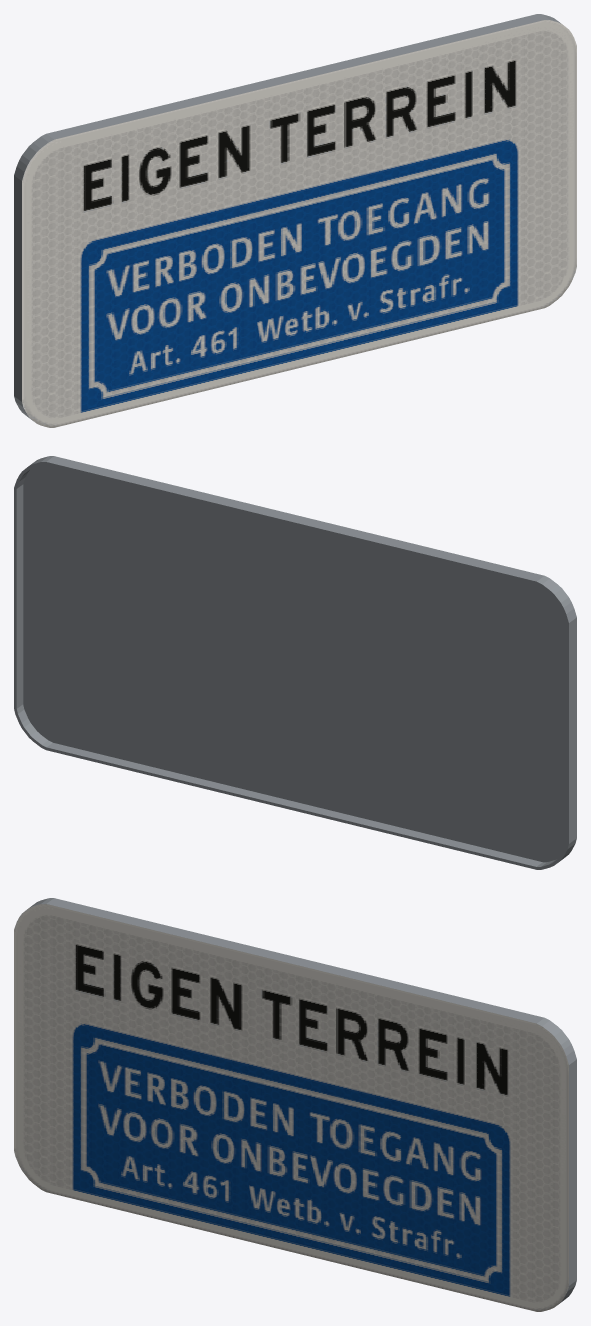
The picture shows the model from 3 angles, top to bottom: view 1: azimuth 30°, elevation 25°; view 2: azimuth 150°, elevation 25°; view 3: azimuth 330°, elevation 25°; orthographic projection.
Visible parts, largest first — view 1: cat_8b6ab918c3e1e1d6; view 2: cat_8b6ab918c3e1e1d6; view 3: cat_8b6ab918c3e1e1d6.
Boxes of the visible parts, x1,y1,x2,y2 form: cat_8b6ab918c3e1e1d6: [14, 14, 576, 427]; cat_8b6ab918c3e1e1d6: [14, 456, 576, 869]; cat_8b6ab918c3e1e1d6: [14, 898, 576, 1311].
Bounding box in the file's own units: 0.6 × 0.015 × 0.2978.
Materials: 2 (1 with a texture image).
